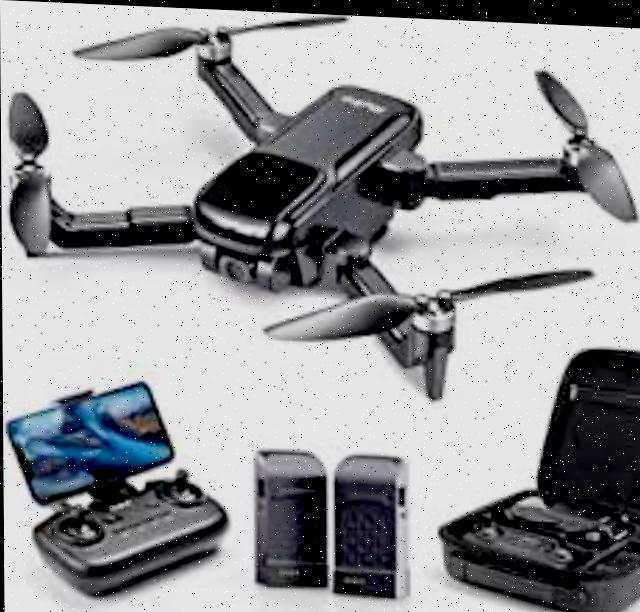drone: (7, 0, 640, 424)
